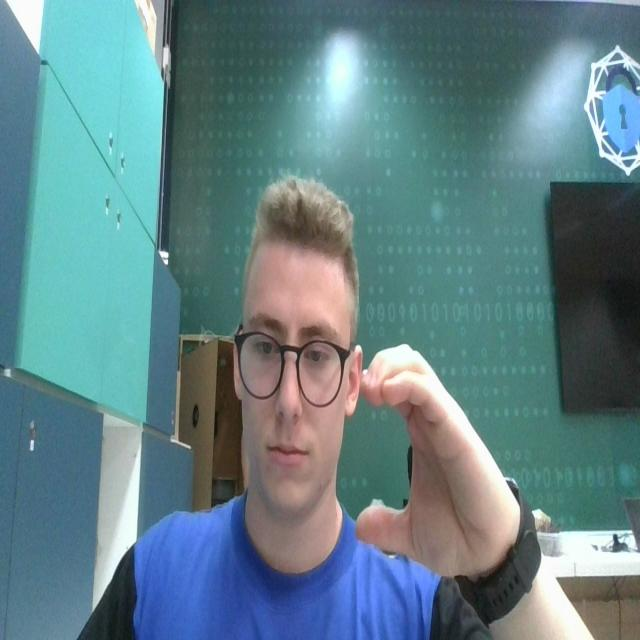C: (359, 340, 491, 580)
